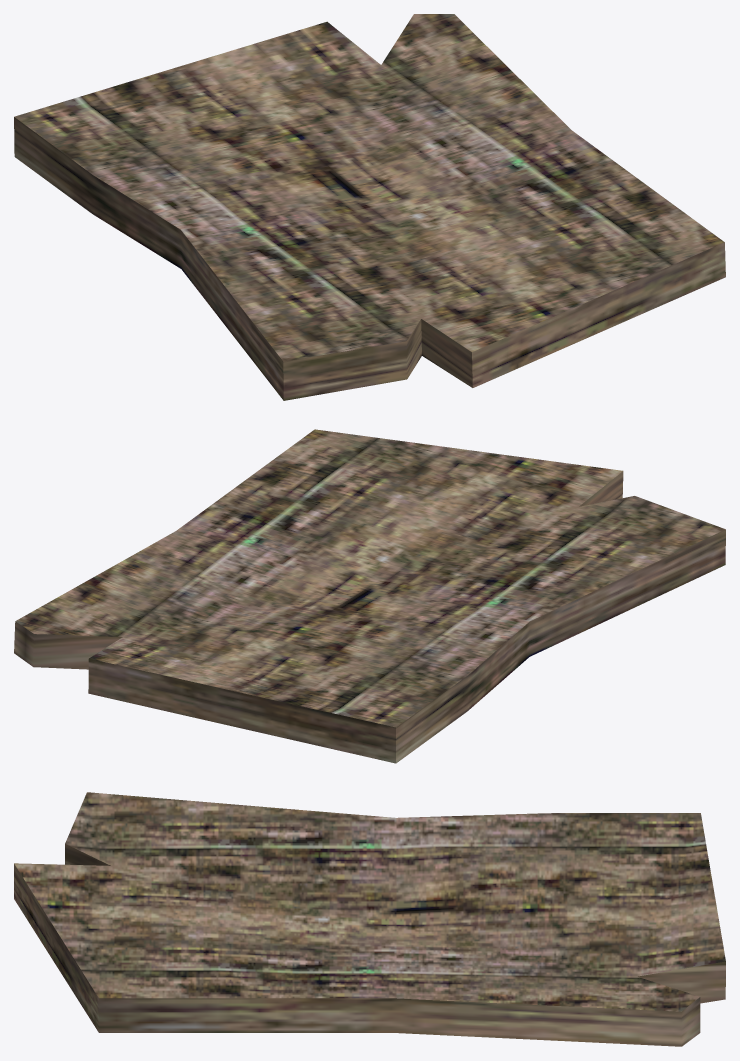
File: INST_WH_FLOATBIT_02.fbx
3 views of the same model, one above another, from view 1: azimuth 30°, elevation 25°; view 2: azimuth 150°, elevation 25°; view 3: azimuth 270°, elevation 25° (orthographic). The views are drawn at different scales.
Visible parts, largest first — view 1: INST_WH_FLOATBIT_02; view 2: INST_WH_FLOATBIT_02; view 3: INST_WH_FLOATBIT_02.
Boxes of the visible parts, <box> form: INST_WH_FLOATBIT_02: <box>14,14,725,400</box>; INST_WH_FLOATBIT_02: <box>14,429,725,763</box>; INST_WH_FLOATBIT_02: <box>14,792,725,1046</box>.
Size of the model in its own units: 14643 by 1584 by 19454.
1 material, 1 textured.
